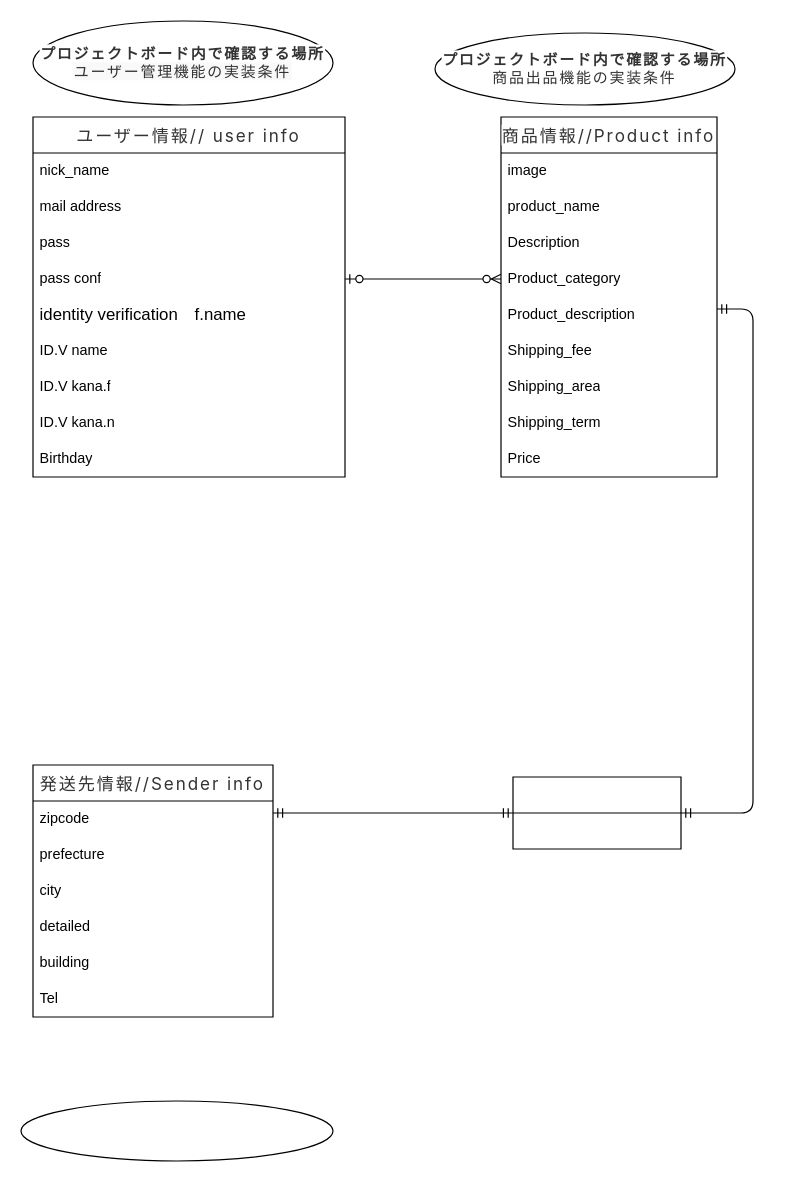
Some shapes in this 785 by 1182 pixel diagram are drawn without their labels. The shapes that lost their labels are listed below. From the top down, each one's centre as x and y in pixels, then its label:
At (x=596, y=812): "購入記録//PO".
At (x=176, y=1130): "プロジェクトボード内で確認する場所 商品購入機能の実装条件".
